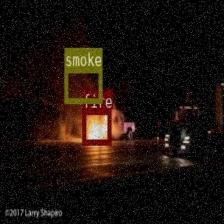smoke: (64, 66, 102, 102)
